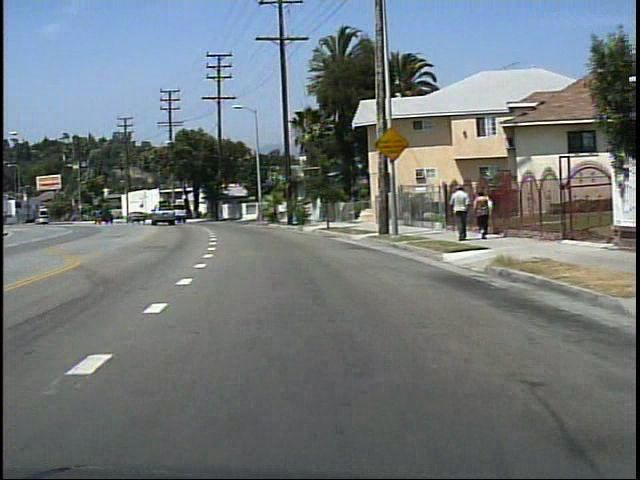person: (468, 188, 494, 242), (446, 180, 468, 242)
